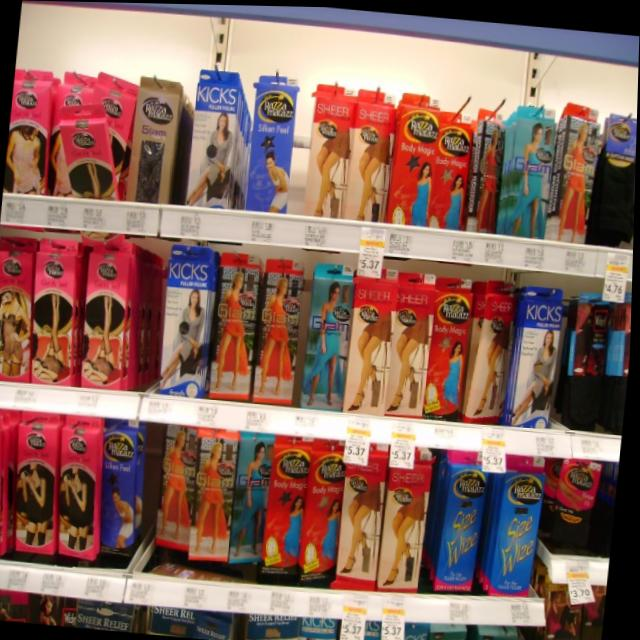q67: (3, 59, 63, 204), (0, 415, 14, 563)
